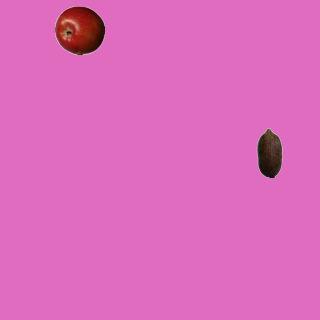Apple Braeburn: (54, 5, 104, 55)
Nut Pecan: (244, 127, 294, 177)
